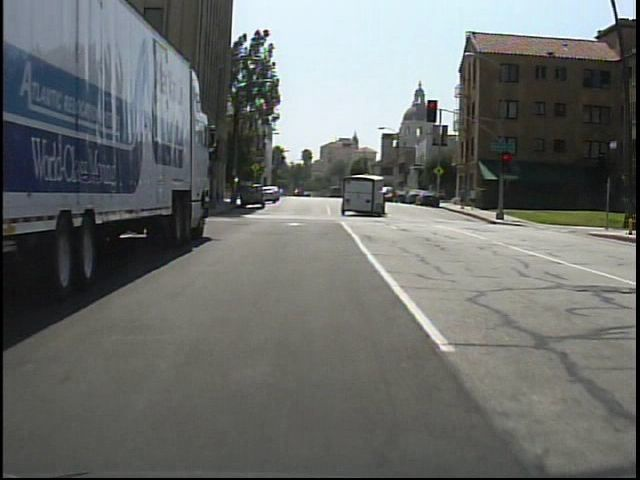person: (457, 185, 470, 211), (468, 186, 480, 212)
